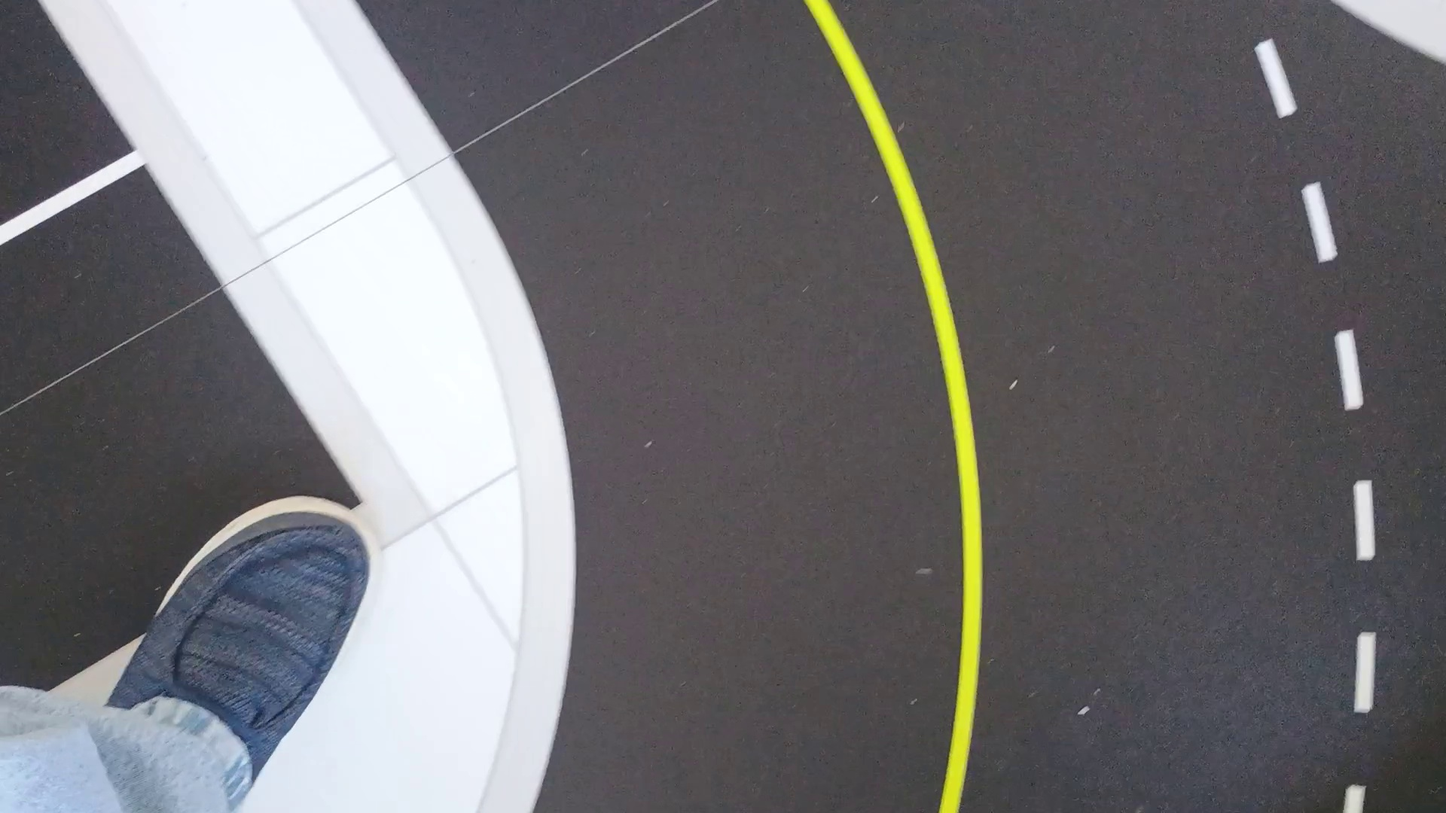Dashed: (1255, 40, 1296, 117), (1302, 183, 1336, 262), (1335, 331, 1362, 410), (1354, 632, 1375, 713), (1353, 480, 1374, 560), (1343, 785, 1364, 812)
Parking: (0, 158, 360, 689)
Solid: (804, 0, 983, 812)
Street: (361, 0, 1445, 812), (0, 0, 356, 686)
